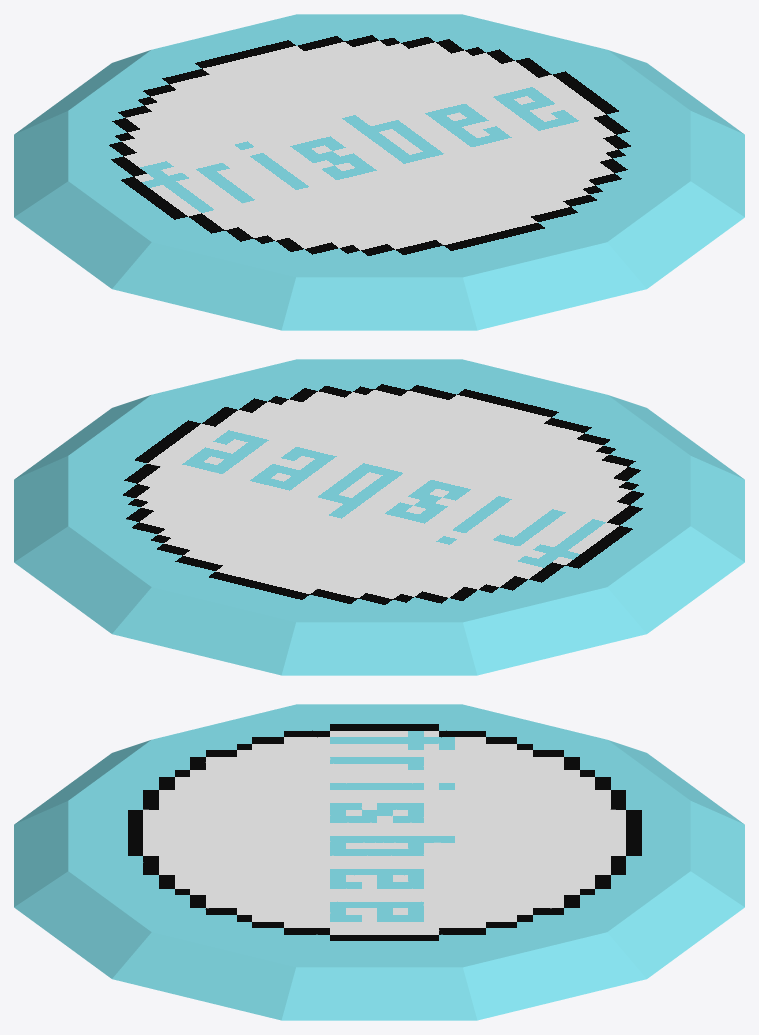
Rendered from frisbee.fbx.
3 renders of one model, top to bottom at view 1: azimuth 30°, elevation 25°; view 2: azimuth 150°, elevation 25°; view 3: azimuth 270°, elevation 25°, orthographic.
Visible parts, largest first — view 1: circle; view 2: circle; view 3: circle.
Part boxes in pixels (x1,y1,x2,y2): circle: (14, 14, 744, 330); circle: (14, 359, 744, 675); circle: (14, 704, 744, 1020).
Bounding box in the file's own units: 68.75 × 3.12 × 68.75.
Materials: 1 (1 with a texture image).
